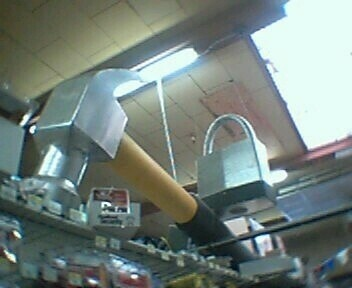hammer: (17, 67, 204, 238)
